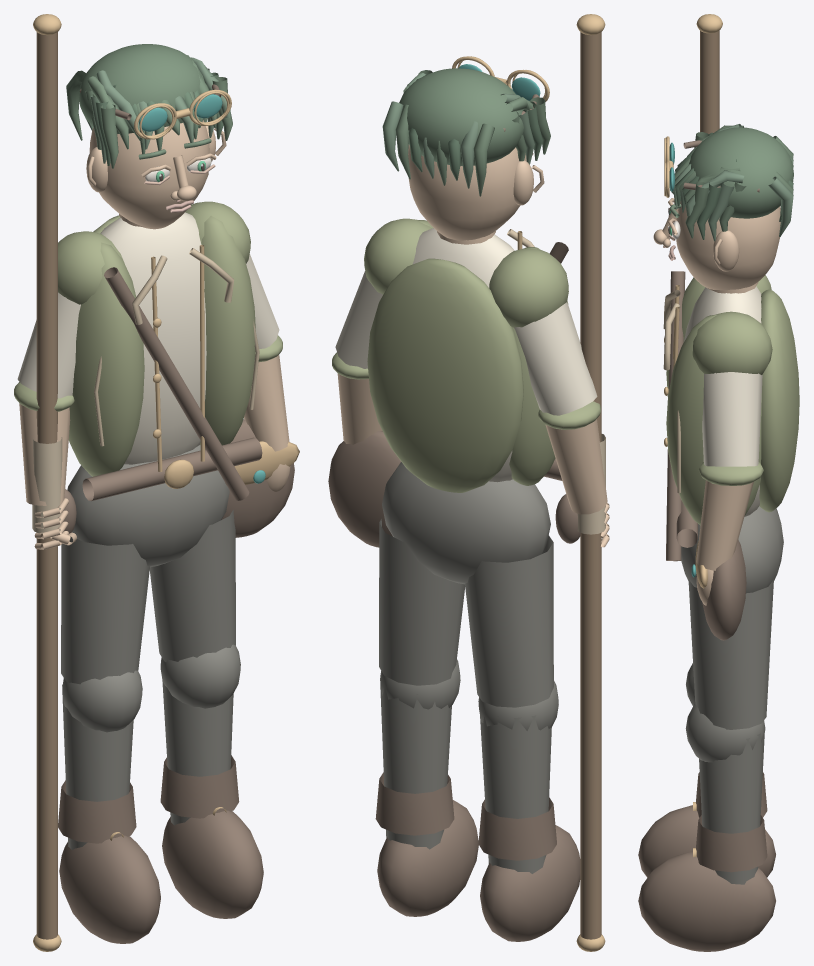
File: Ender_ender_face_hair_v1.glb
3 views of the same model, side by side, from view 1: azimuth 30°, elevation 25°; view 2: azimuth 150°, elevation 25°; view 3: azimuth 270°, elevation 25° (orthographic). The views are drawn at different scales.
Parts seen in each view (by area): view 1: Ender_lookdev; view 2: Ender_lookdev; view 3: Ender_lookdev.
Boxes of the visible parts, bbox=[...] form: Ender_lookdev: bbox=[14, 14, 299, 951]; Ender_lookdev: bbox=[328, 14, 609, 951]; Ender_lookdev: bbox=[638, 14, 799, 951].
Bounding box in the file's own units: 0.5632 × 1.86 × 0.316.
